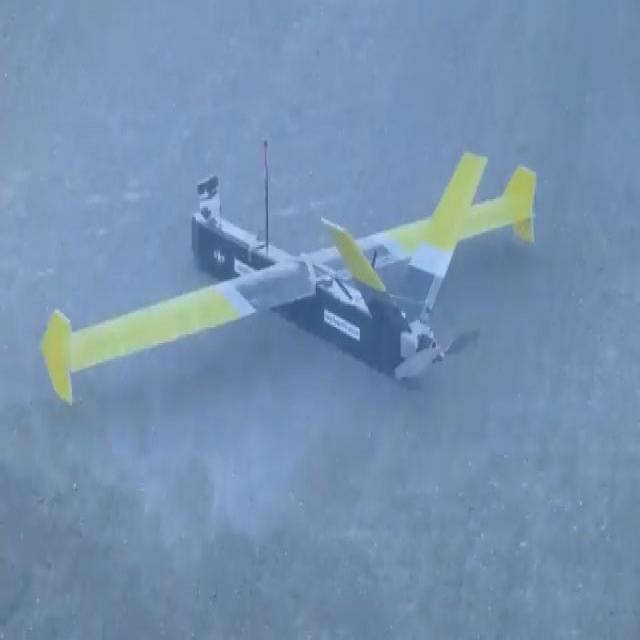drones: (13, 127, 571, 469)
